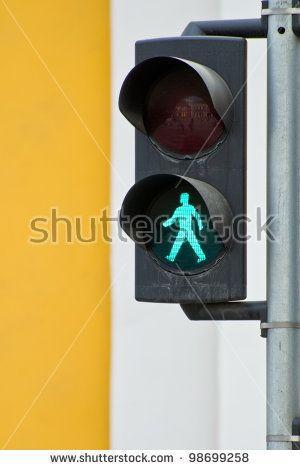green: (113, 29, 259, 318)
